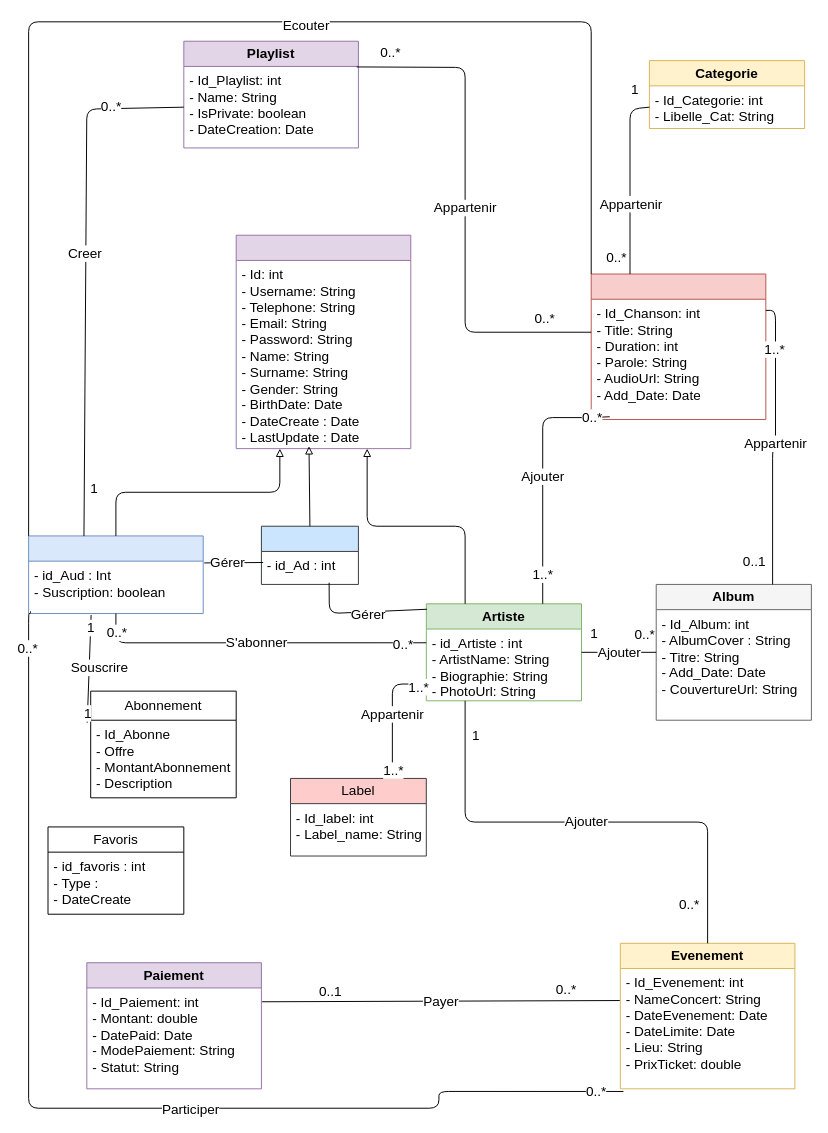
The diagram is 828 pixels wide and 1133 high, and some of its shapes have lost their labels. Each missing label, with the box of its shape:
Admin: (260, 525, 358, 584)
Auditeur: (28, 535, 203, 614)
Chansons: (590, 273, 766, 420)
Utilisateur: (235, 234, 411, 449)
